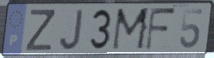3: (87, 7, 114, 53)
5: (178, 8, 204, 50)
F: (144, 7, 177, 53)
J: (58, 8, 85, 52)
M: (110, 7, 152, 53)
Z: (24, 8, 56, 53)
